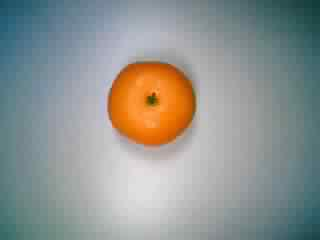orange: (100, 51, 199, 150)
